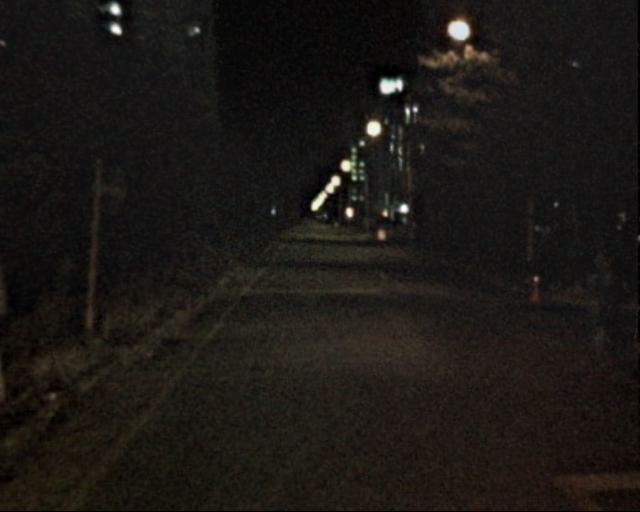person: (579, 245, 622, 363)
